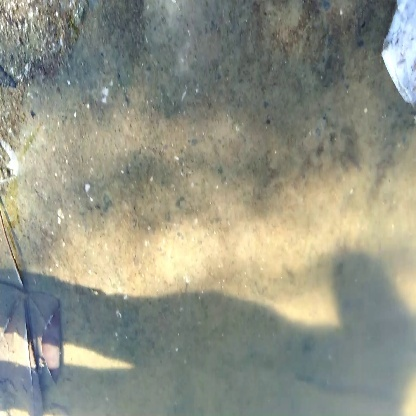branch: (3, 223, 71, 416)
